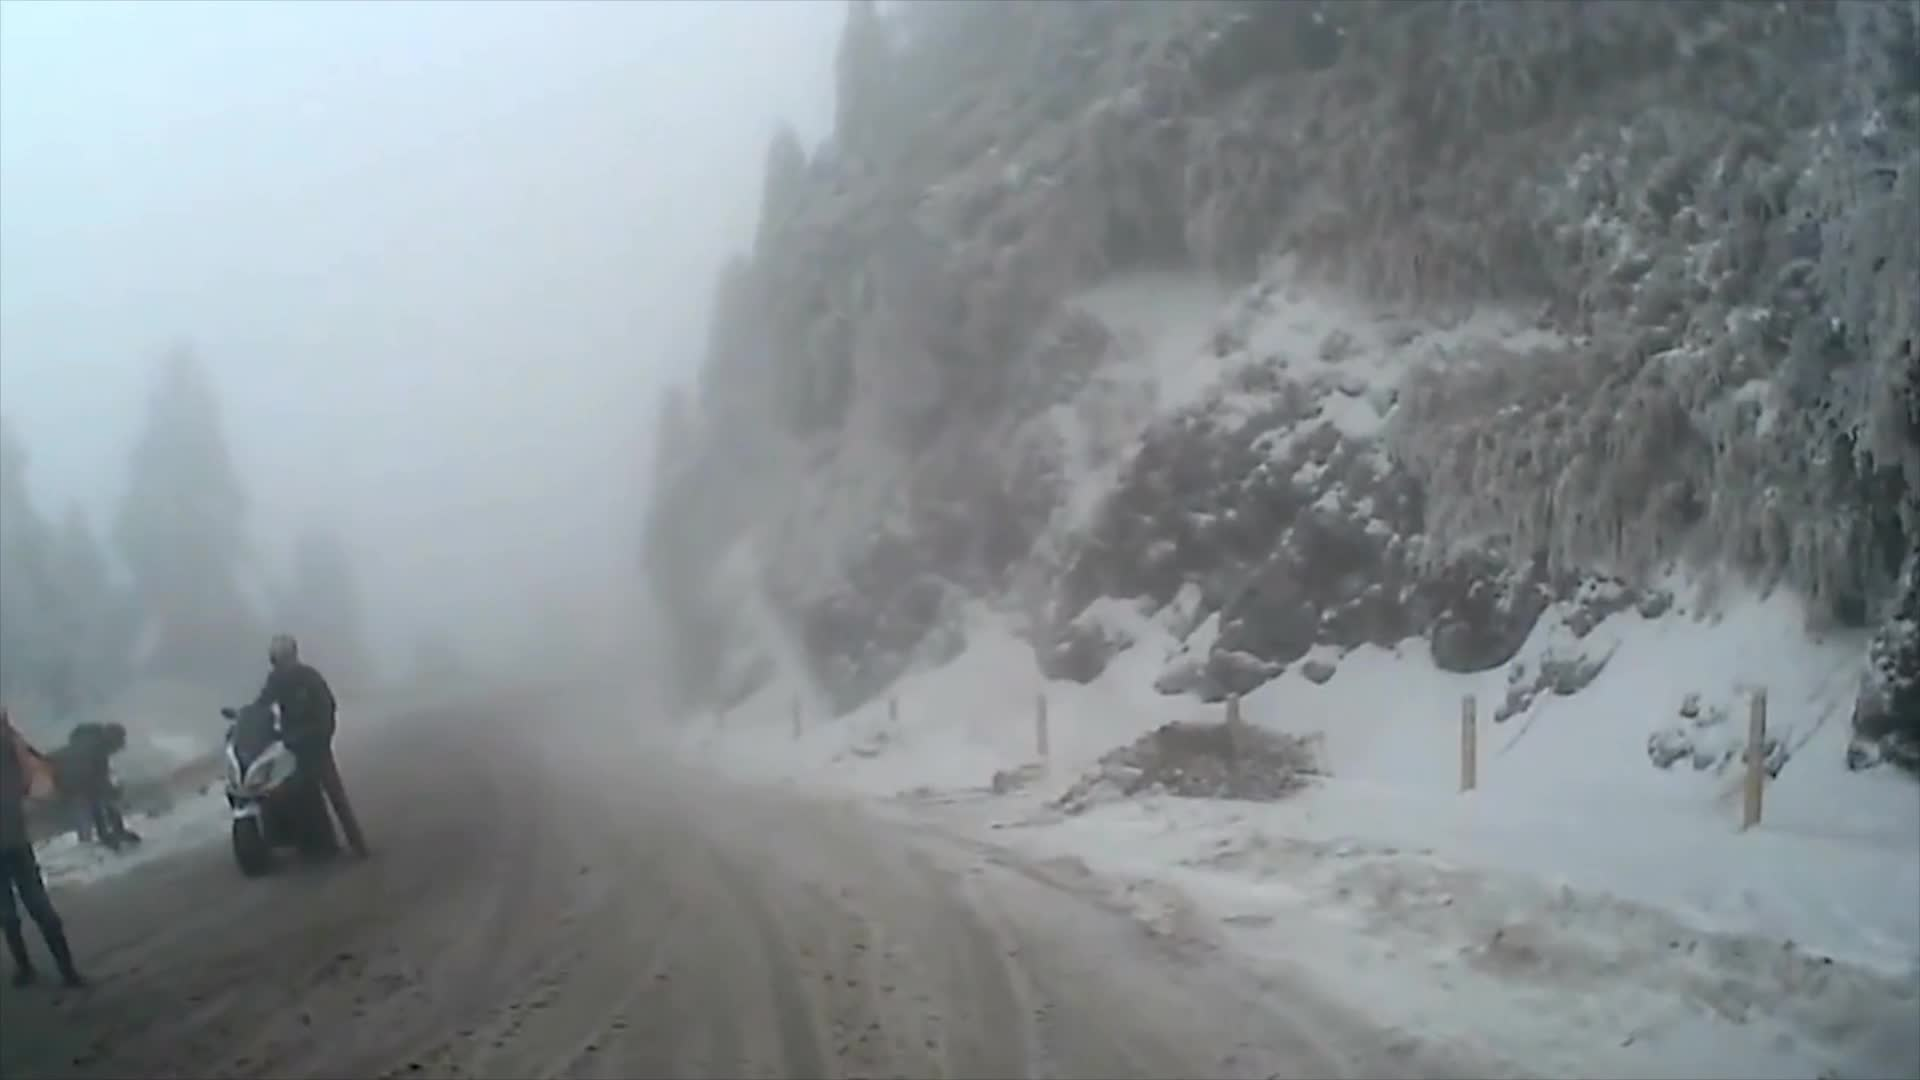pedestrian: (238, 632, 380, 873), (2, 707, 84, 987), (51, 722, 142, 853)
